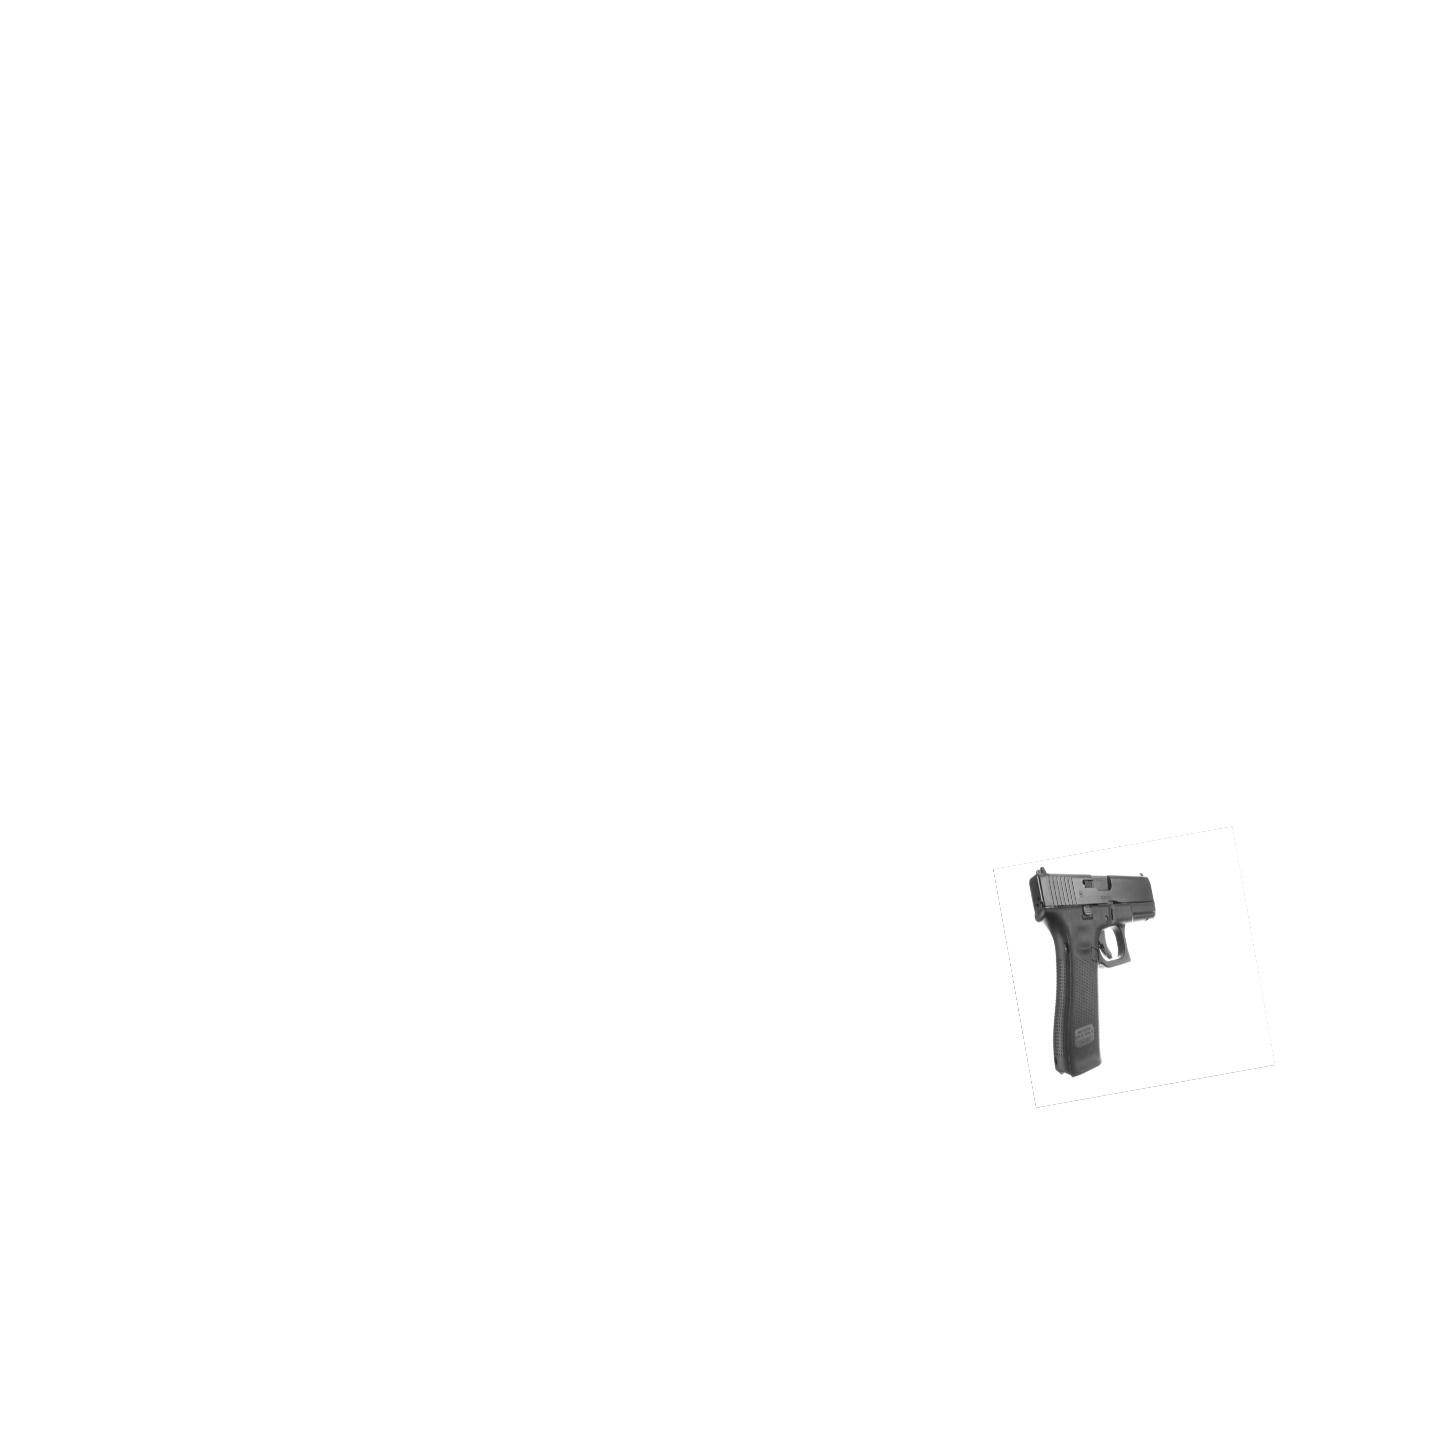gun: (1027, 864, 1158, 1080)
